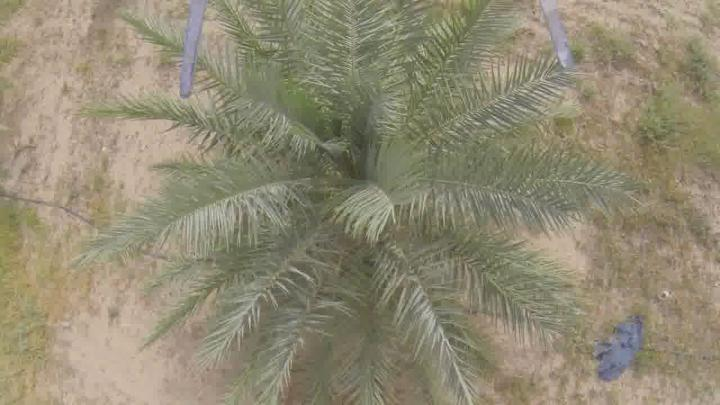Date-Palm-Crown: (206, 35, 524, 335)
